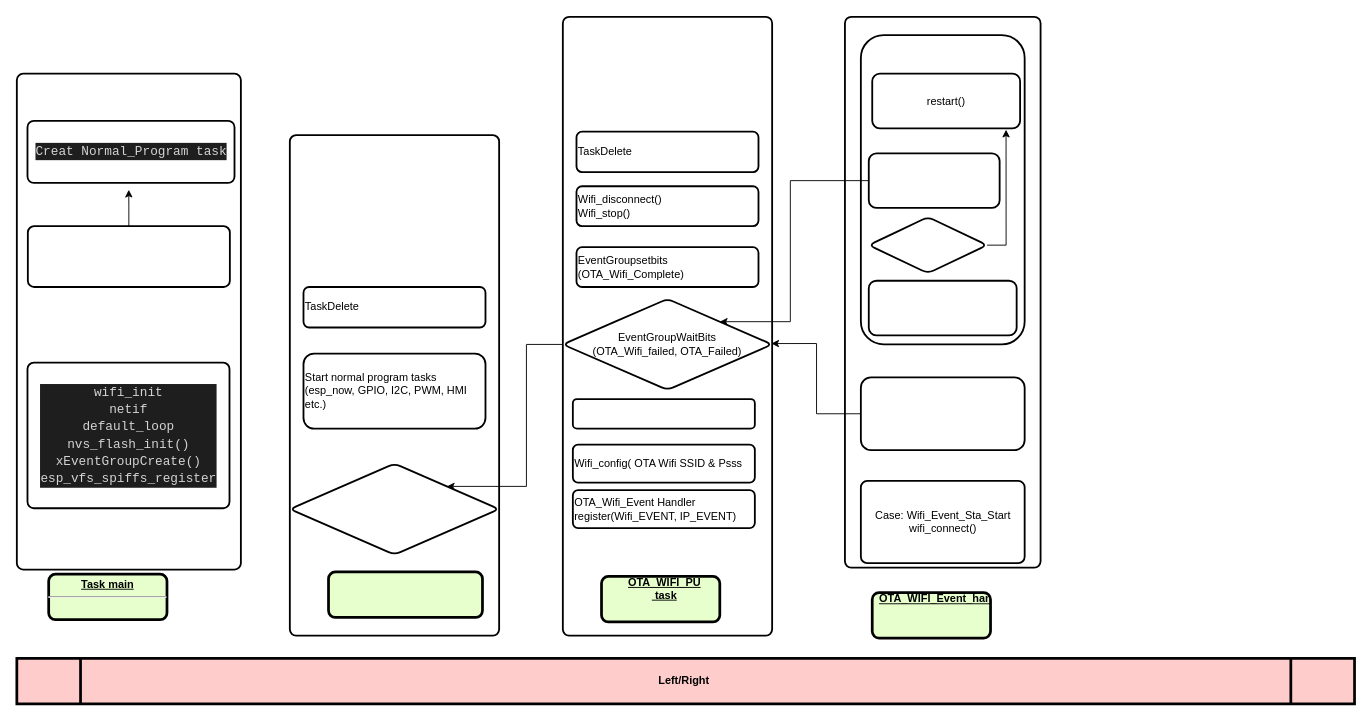
Image size: 1371x721. Some labels were removed from this diagram. Each missing label, with the box of its shape:
Case: IP_Eventt_Sta_Got_IP esp_https_ota(): (867, 279, 1017, 336)
Case:Wifi_Event_Disconnect() EventGroupSetbits: OTA_WIFI_FAILED: (859, 376, 1025, 451)
Create Task Wifi_OTA: (26, 225, 230, 287)
EventGroupSetbits: OTA_FAILED: (867, 152, 1000, 208)
EventGroupWaitBits (OTA_Complete): (288, 462, 500, 555)
OTA() ==OK: (867, 216, 988, 274)
task Normal_Program: (327, 570, 483, 618)
Wifi_start(): (571, 398, 755, 429)
